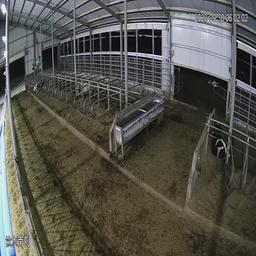cow: (210, 115, 230, 168), (75, 74, 94, 96), (32, 75, 43, 95)
